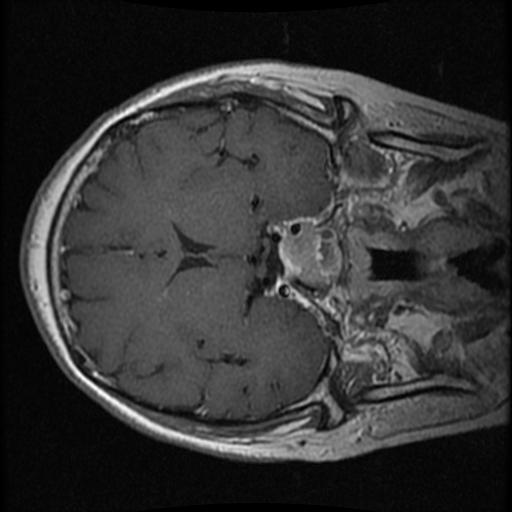pituitary tumour: (279, 224, 323, 284)
